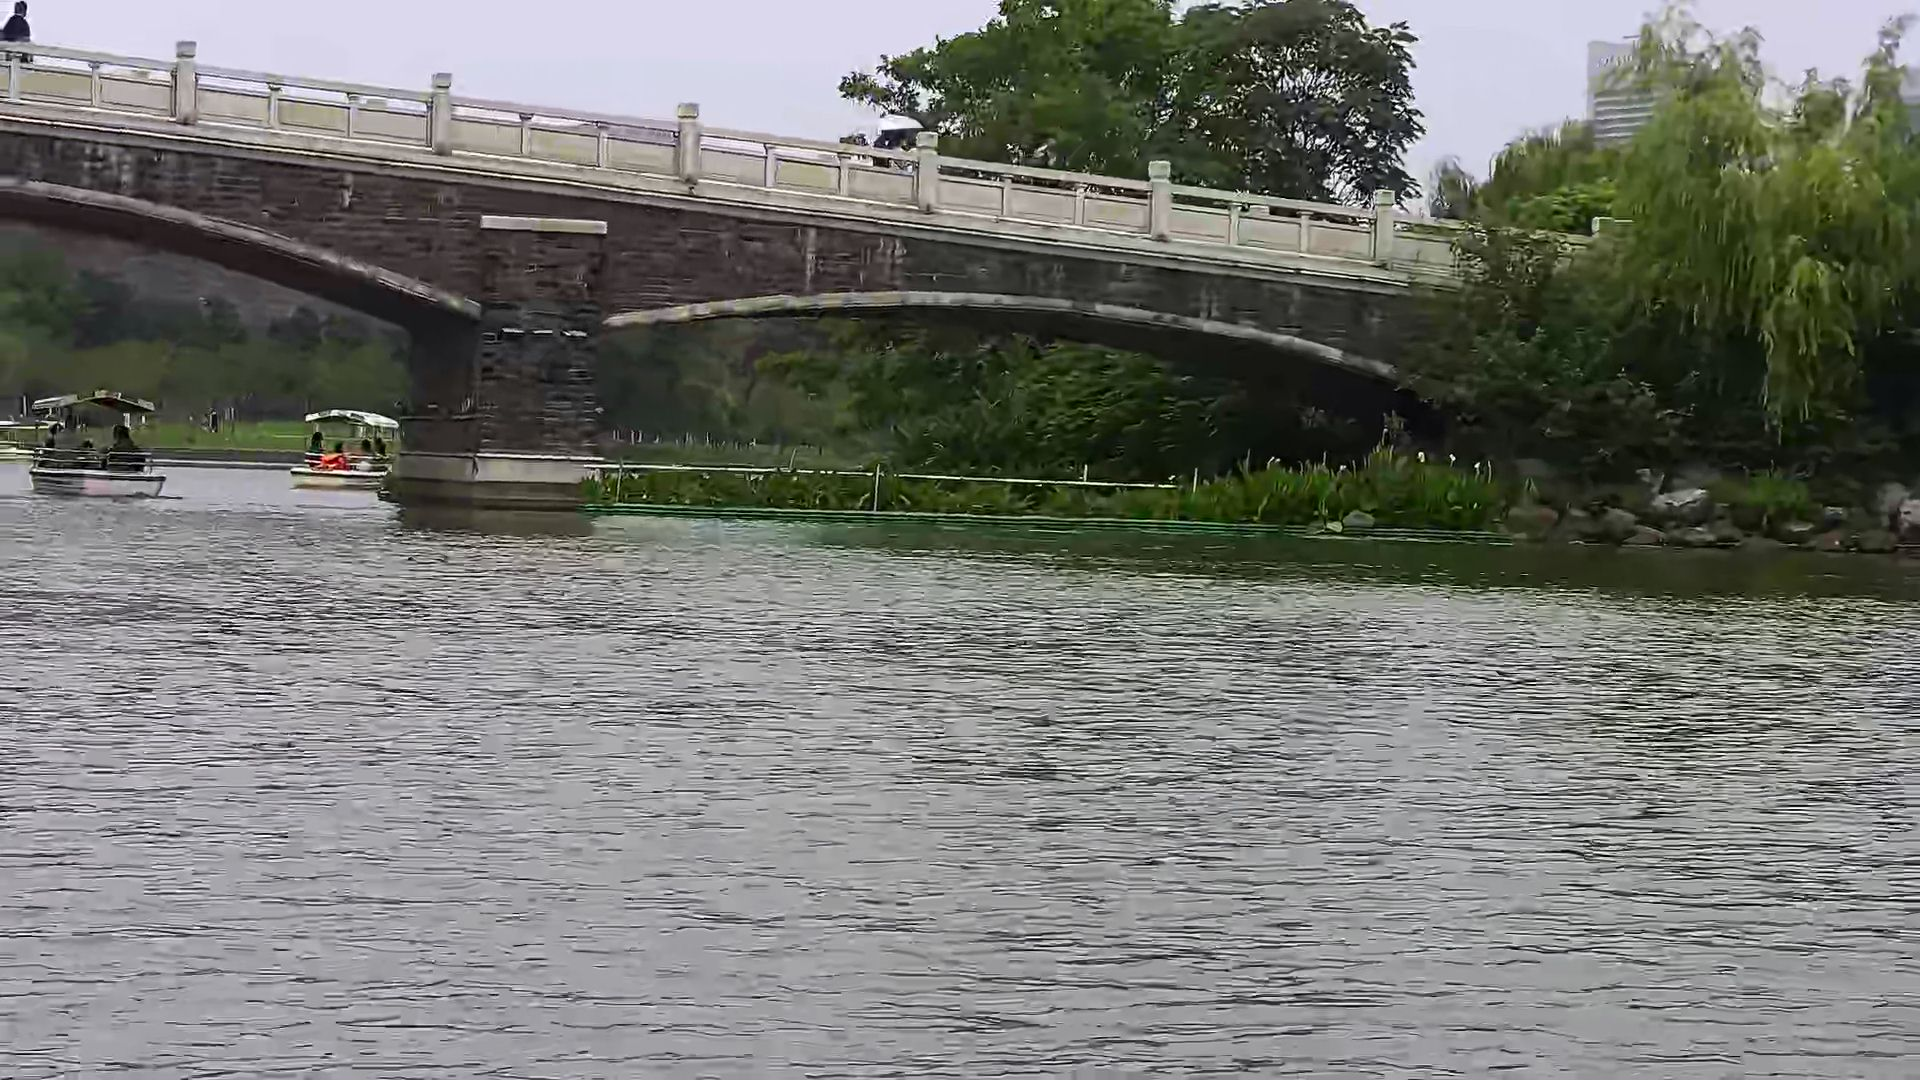boat: (28, 385, 171, 502), (281, 406, 394, 487)
bridge: (3, 37, 1507, 415)
